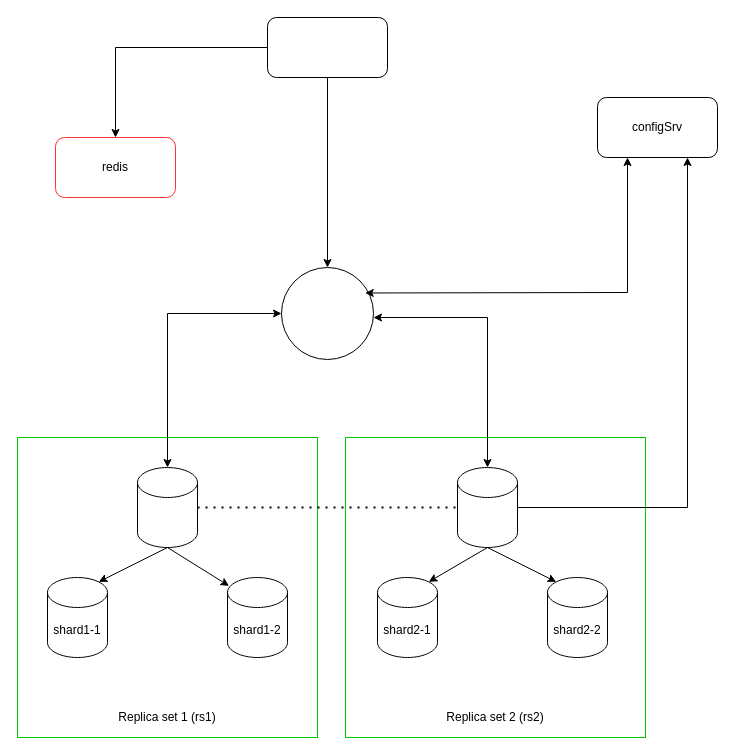
Some shapes in this 735 by 755 pixel diagram are drawn without their labels. The shapes that lost their labels are listed below. From the top down, each one's centre as x and y in pixels, then its label:
point (327, 47): pymongo-api
point (327, 313): mongos_router
point (167, 507): shard1
point (487, 507): shard2
